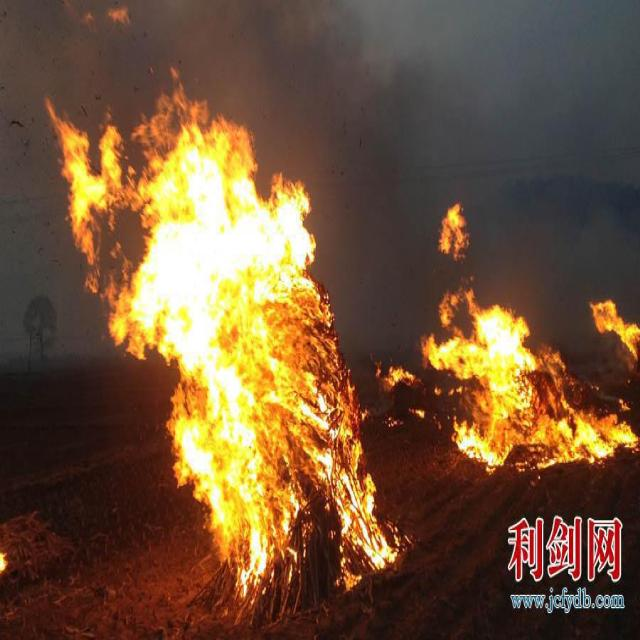fire: (31, 55, 394, 601), (415, 204, 637, 476)
